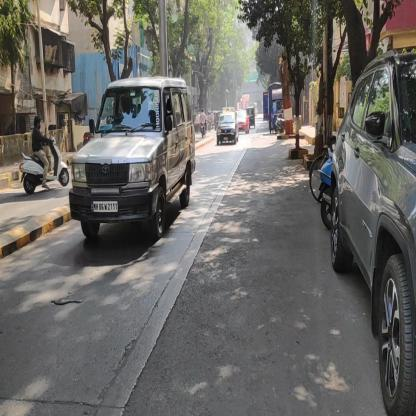license: (92, 200, 118, 215)
